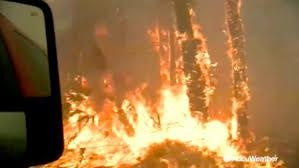fire: (59, 17, 256, 161)
